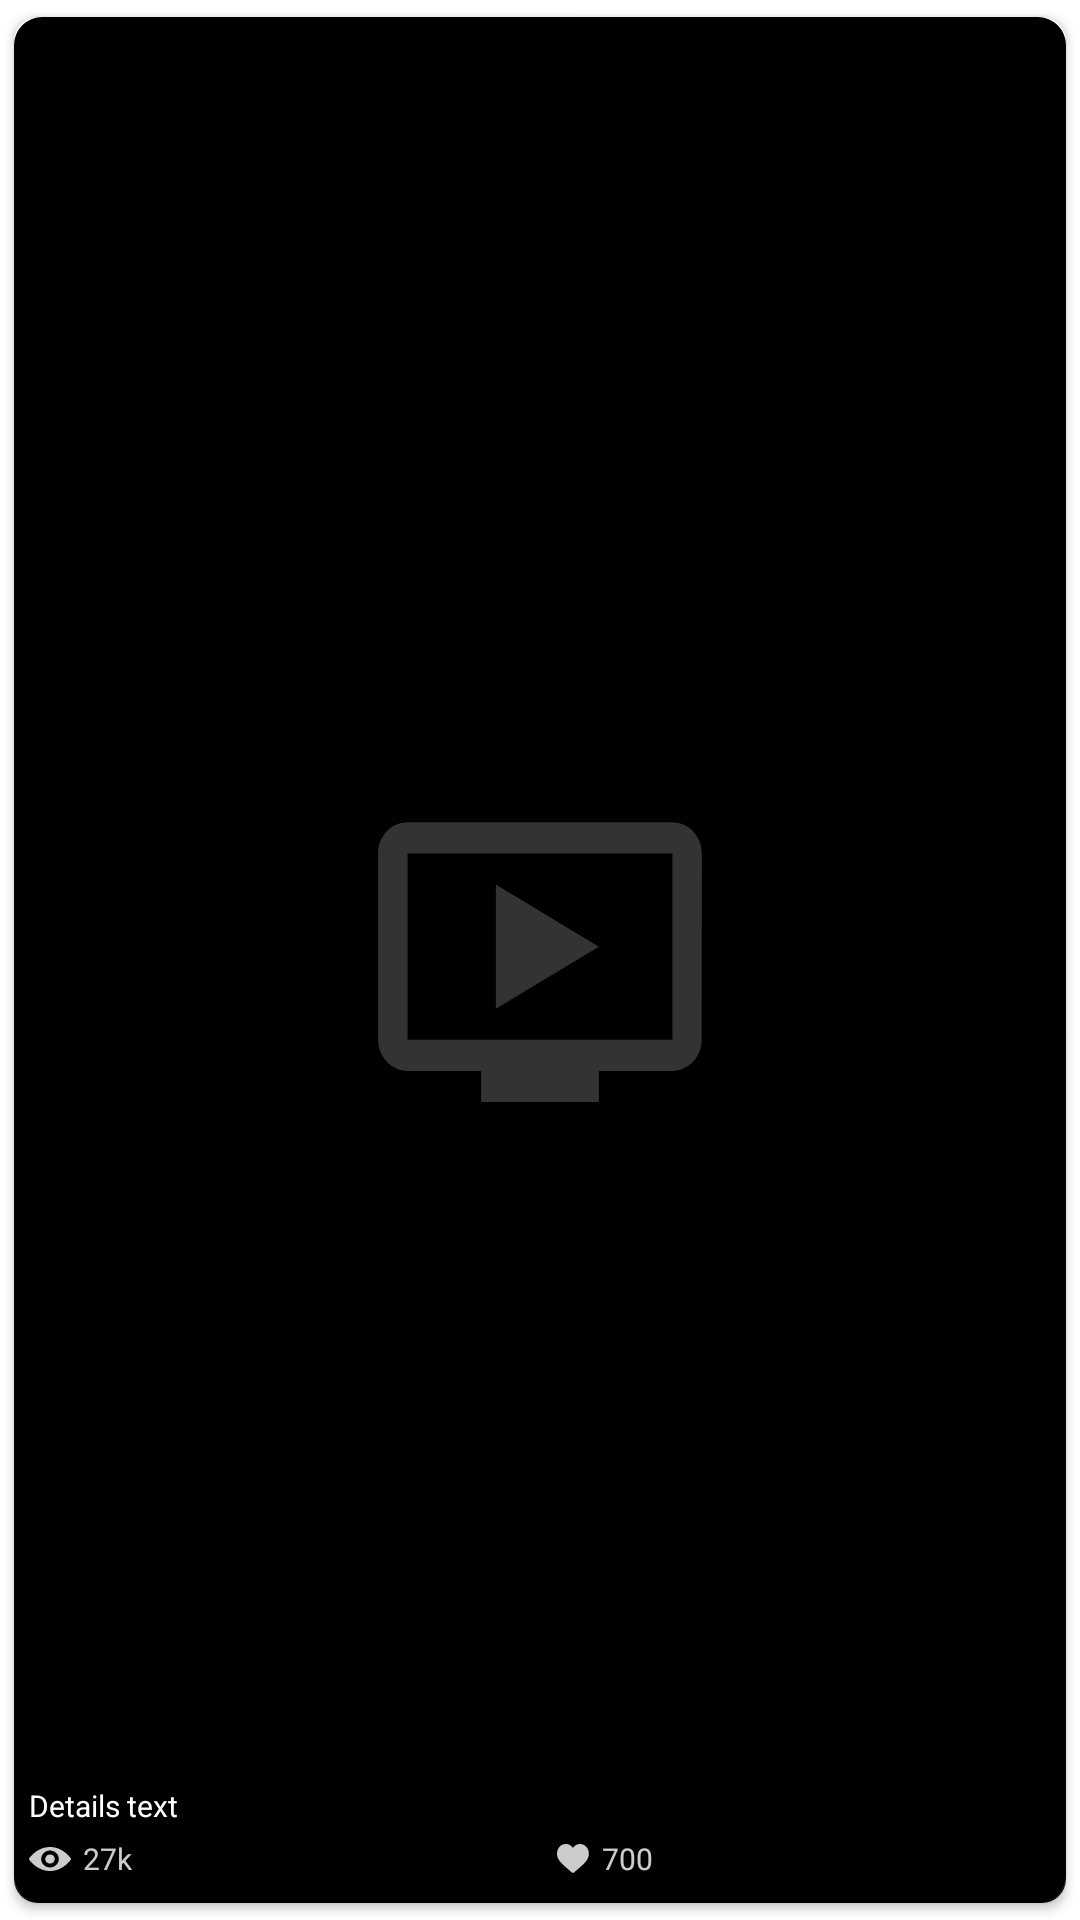

Locate icon controls on the screen. Image size 1080×1920, boxes as Rect(x1, y1, x2, y2).
like: Rect(557, 1844, 589, 1873)
viewers count: Rect(29, 1847, 71, 1871)
